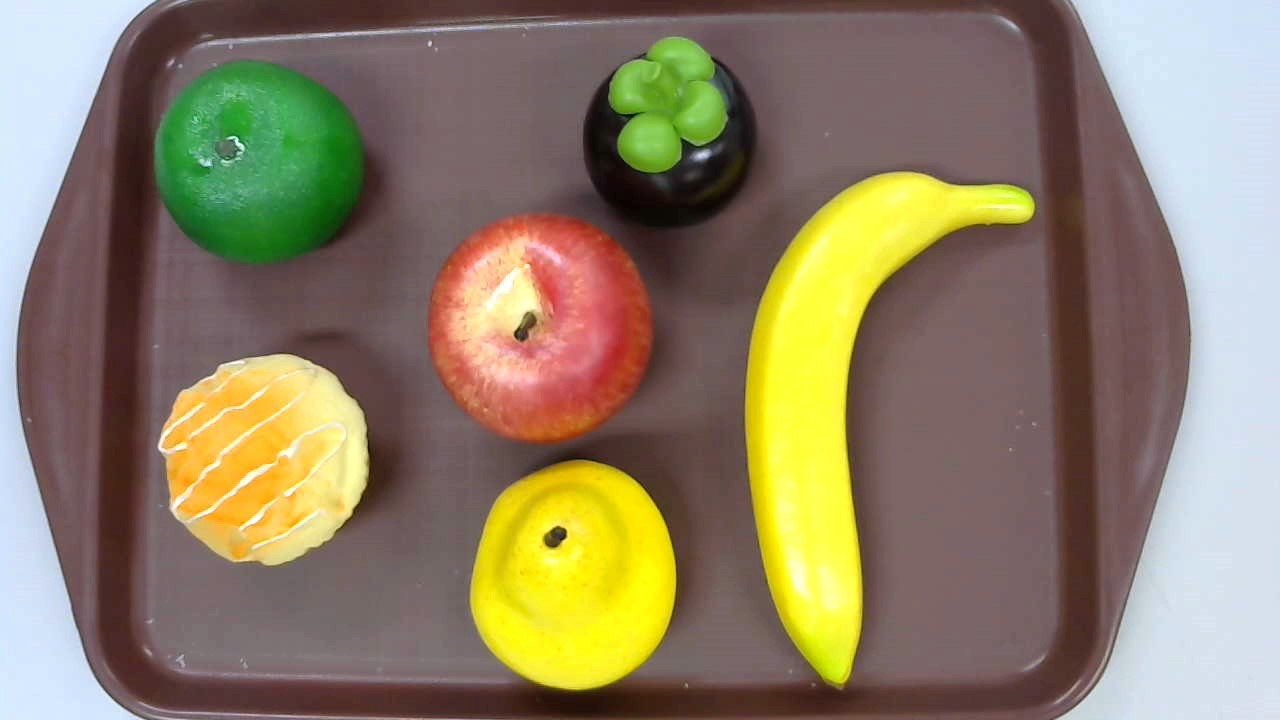banana: (743, 172, 1035, 691)
cupcake: (157, 354, 370, 572)
green orange: (153, 59, 364, 269)
mangosteen: (582, 37, 757, 227)
red apple: (429, 211, 654, 444)
yellow pear: (470, 459, 678, 693)
